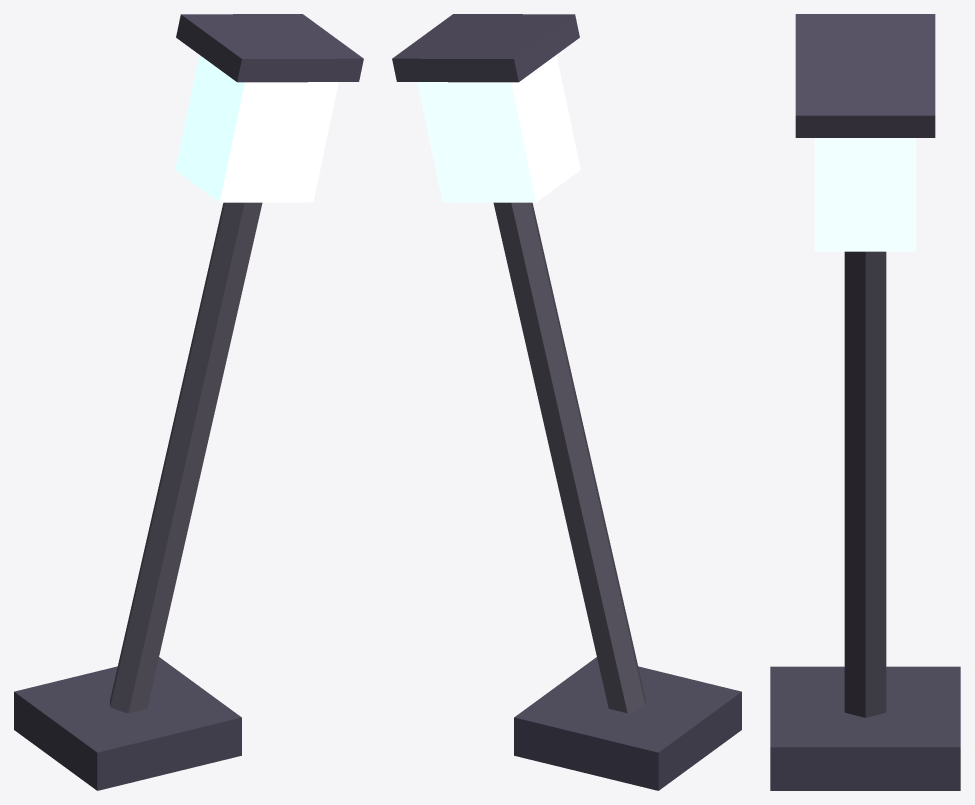
The model's file is IR_Lamp.glb.
3 renders of one model, left to right at view 1: azimuth 30°, elevation 25°; view 2: azimuth 150°, elevation 25°; view 3: azimuth 270°, elevation 25°, orthographic. The views are drawn at different scales.
Parts seen in each view (by area): view 1: IR_Lamp; view 2: IR_Lamp; view 3: IR_Lamp.
Boxes of the visible parts, x1,y1,x2,y2 form: IR_Lamp: [14, 14, 363, 790]; IR_Lamp: [392, 14, 741, 790]; IR_Lamp: [770, 14, 960, 790].
Bounding box in the file's own units: 5.77 × 13.61 × 3.
2 materials, 2 textured.
